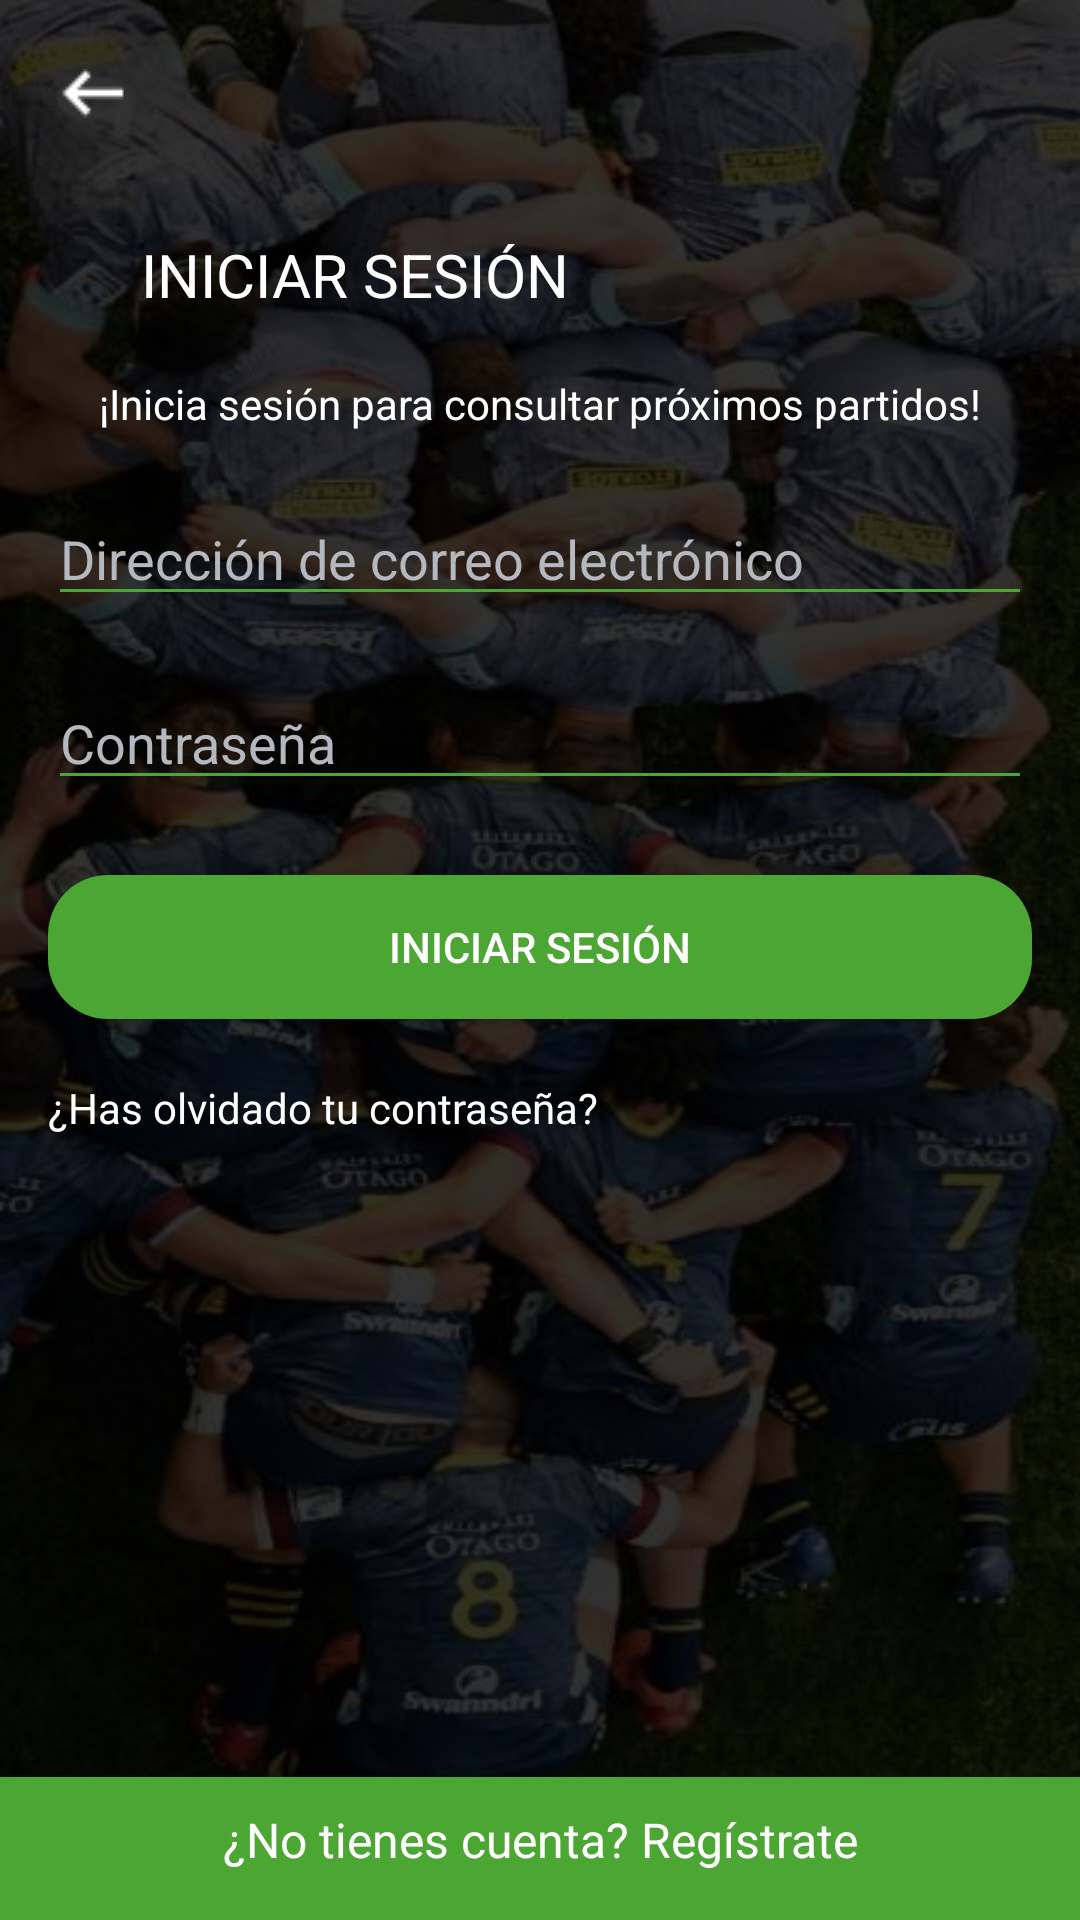

Where to tap for icons on this 1080px×1920px app screen, as (x=x, y=y):
short left: (x=93, y=93)
